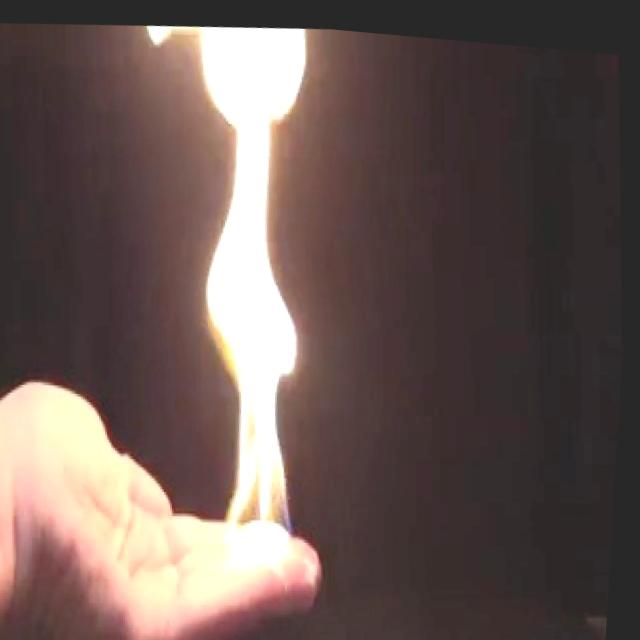Fire: (166, 13, 345, 558)
